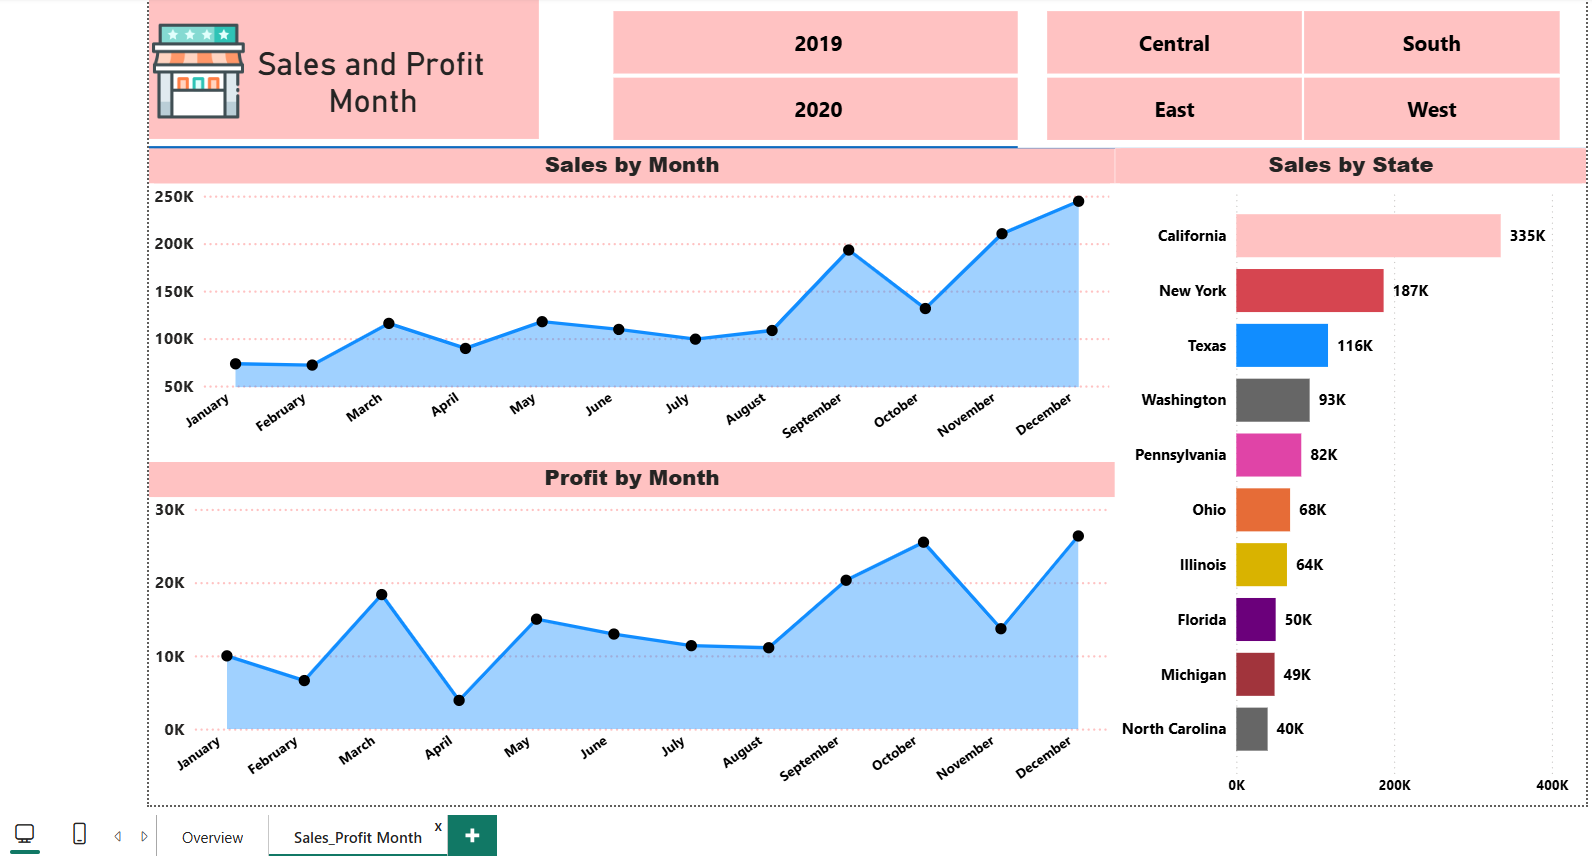

The page's visual inventory and layout, read from the dashboard file:
{"tool":"powerbi","page":{"name":"Sales_Profit Month","canvas":[1280,720],"ordinal":1},"visuals":[{"type":"stackedAreaChart","title":"Sales by Month","fields":{"Y":["Sheet1.Total Sales"],"Category":["Sheet1.Order Date.Variation.Date Hierarchy.Month"]},"box":[0,134.5,860.4,279.9],"z":0},{"type":"stackedAreaChart","title":"Profit by Month","fields":{"Y":["Sheet1.Total Profit"],"Category":["Sheet1.Order Date.Variation.Date Hierarchy.Month"]},"box":[0,414.4,860.4,306],"z":1000},{"type":"slicer","fields":{"Values":["Sheet1.Order Date.Variation.Date Hierarchy.Year"]},"box":[387,5.5,415.8,129],"z":2000},{"type":"shape","box":[0,118,1280.3,31.6],"z":3000},{"type":"barChart","title":" Sales by State","fields":{"Y":["Sheet1.Total Sales"],"Category":["Sheet1.State"]},"box":[860.4,134.5,419.9,585.9],"z":4000},{"type":"slicer","fields":{"Values":["Sheet1.Region"]},"box":[773.9,5.5,506.3,129],"z":5000},{"type":"textbox","box":[0,0,347.2,126.2],"z":5001},{"type":"image","box":[0,5.5,87.8,120.8],"z":5002}]}

Visuals, with their boxes on the page's 1280x720 design canvas (x1, y1, x2, y2). These are canvas units, not pixel positions in the 1592x856 screenshot, which may show the page scaled, cropped or inside an application window:
"Sales by Month" stackedAreaChart: BBox(0, 134, 860, 414)
"Profit by Month" stackedAreaChart: BBox(0, 414, 860, 720)
slicer - Sheet1.Order Date.Variation.Date Hierarchy.Year: BBox(387, 6, 803, 134)
shape: BBox(0, 118, 1280, 150)
" Sales by State" barChart: BBox(860, 134, 1280, 720)
slicer - Sheet1.Region: BBox(774, 6, 1280, 134)
textbox: BBox(0, 0, 347, 126)
image: BBox(0, 6, 88, 126)
